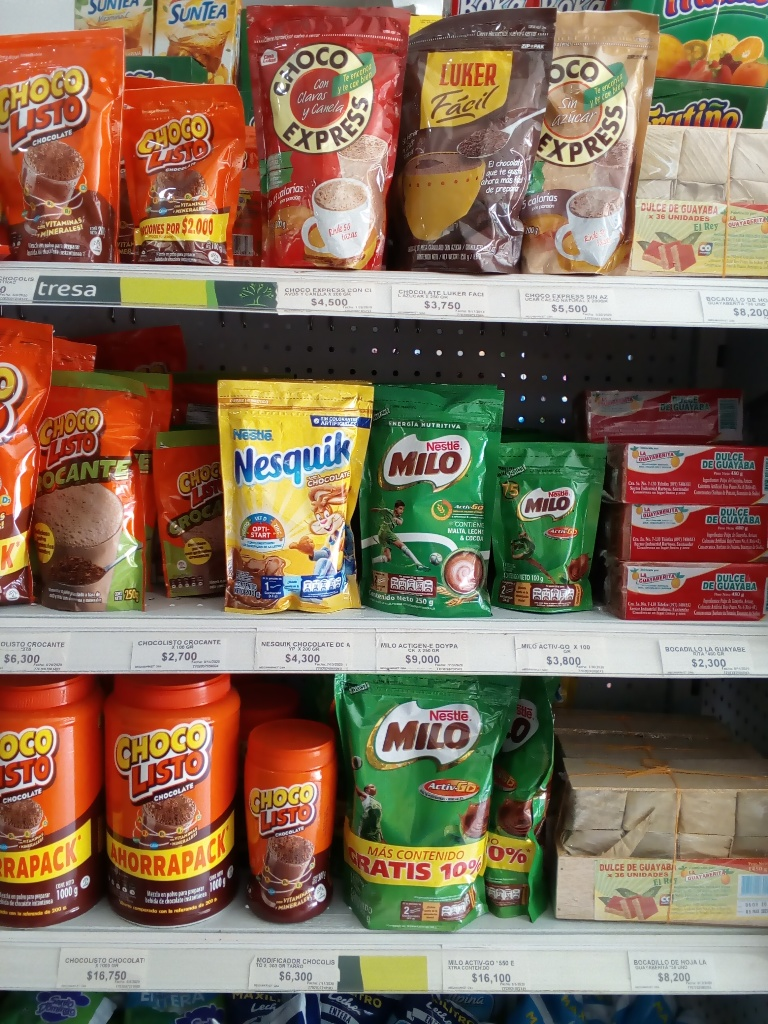COL0170102DYP10000: (147, 421, 227, 606)
COL0170102DYP25000: (36, 359, 161, 617)
COL0170103DYP20000: (0, 25, 135, 271)
COL0170103TRR00100: (1, 675, 106, 934)
COL0170103TRR30000: (242, 713, 354, 923)
COL0170203DYP10000: (498, 439, 602, 616)
COL0170203DYP25000: (373, 387, 497, 622)
COL0170303DYP20000: (214, 372, 367, 621)
